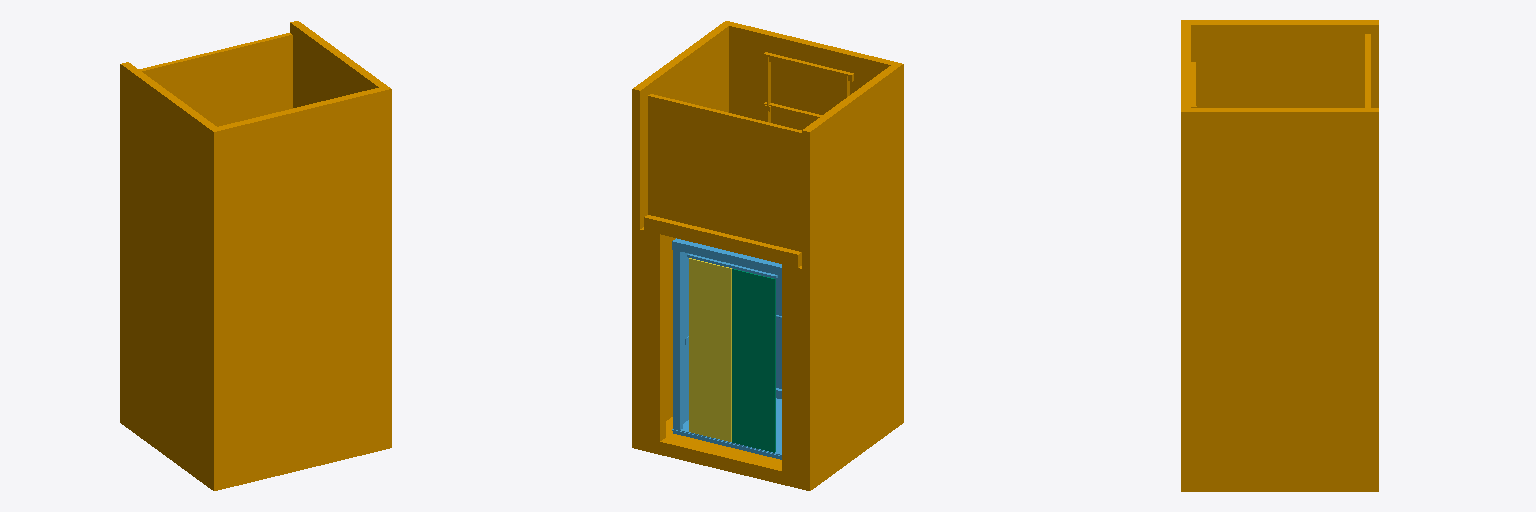
robot.urdf — passenger_elevator:
<robot name="passenger_elevator">
  <link name="shaft_frame">
    <inertial>
      <origin xyz="0 0 2.175" rpy="0 0 0" />
      <mass value="1800" />
      <inertia ixx="3468.75" ixy="0" ixz="0" iyy="3597.75" iyz="0" izz="1389.75" />
      </inertial>
    <visual>
      <origin xyz="0 0 0.06" rpy="0 0 0" />
      <geometry>
        <box size="2.25 2.05 0.12" />
        </geometry>
      </visual>
    <visual>
      <origin xyz="0 -0.975 2.175" rpy="0 0 0" />
      <geometry>
        <box size="2.25 0.1 4.35" />
        </geometry>
      </visual>
    <visual>
      <origin xyz="-1.075 0 2.175" rpy="0 0 0" />
      <geometry>
        <box size="0.1 2.05 4.35" />
        </geometry>
      </visual>
    <visual>
      <origin xyz="1.075 0 2.175" rpy="0 0 0" />
      <geometry>
        <box size="0.1 2.05 4.35" />
        </geometry>
      </visual>
    <visual>
      <origin xyz="0 0.955 0.14" rpy="0 0 0" />
      <geometry>
        <box size="1.95 0.14 0.04" />
        </geometry>
      </visual>
    <visual>
      <origin xyz="-0.9 0.955 1.395" rpy="0 0 0" />
      <geometry>
        <box size="0.25 0.14 2.55" />
        </geometry>
      </visual>
    <visual>
      <origin xyz="0.9 0.955 1.395" rpy="0 0 0" />
      <geometry>
        <box size="0.25 0.14 2.55" />
        </geometry>
      </visual>
    <visual>
      <origin xyz="0 0.955 2.75" rpy="0 0 0" />
      <geometry>
        <box size="1.95 0.14 0.16" />
        </geometry>
      </visual>
    <visual>
      <origin xyz="0 0.915 3.55" rpy="0 0 0" />
      <geometry>
        <box size="1.95 0.06 1.44" />
        </geometry>
      </visual>
    <visual>
      <origin xyz="-0.5 -0.93 2.12" rpy="0 0 0" />
      <geometry>
        <box size="0.04 0.03 4" />
        </geometry>
      </visual>
    <visual>
      <origin xyz="-0.5 -0.9 2.12" rpy="0 0 0" />
      <geometry>
        <box size="0.012 0.08 4" />
        </geometry>
      </visual>
    <visual>
      <origin xyz="-0.5 -0.9 0.32" rpy="0 0 0" />
      <geometry>
        <box size="0.08 0.1 0.06" />
        </geometry>
      </visual>
    <visual>
      <origin xyz="-0.5 -0.9 1.38" rpy="0 0 0" />
      <geometry>
        <box size="0.08 0.1 0.06" />
        </geometry>
      </visual>
    <visual>
      <origin xyz="-0.5 -0.9 2.44" rpy="0 0 0" />
      <geometry>
        <box size="0.08 0.1 0.06" />
        </geometry>
      </visual>
    <visual>
      <origin xyz="-0.5 -0.9 3.5" rpy="0 0 0" />
      <geometry>
        <box size="0.08 0.1 0.06" />
        </geometry>
      </visual>
    <visual>
      <origin xyz="0.5 -0.93 2.12" rpy="0 0 0" />
      <geometry>
        <box size="0.04 0.03 4" />
        </geometry>
      </visual>
    <visual>
      <origin xyz="0.5 -0.9 2.12" rpy="0 0 0" />
      <geometry>
        <box size="0.012 0.08 4" />
        </geometry>
      </visual>
    <visual>
      <origin xyz="0.5 -0.9 0.32" rpy="0 0 0" />
      <geometry>
        <box size="0.08 0.1 0.06" />
        </geometry>
      </visual>
    <visual>
      <origin xyz="0.5 -0.9 1.38" rpy="0 0 0" />
      <geometry>
        <box size="0.08 0.1 0.06" />
        </geometry>
      </visual>
    <visual>
      <origin xyz="0.5 -0.9 2.44" rpy="0 0 0" />
      <geometry>
        <box size="0.08 0.1 0.06" />
        </geometry>
      </visual>
    <visual>
      <origin xyz="0.5 -0.9 3.5" rpy="0 0 0" />
      <geometry>
        <box size="0.08 0.1 0.06" />
        </geometry>
      </visual>
    <visual>
      <origin xyz="0 -0.9 0.32" rpy="0 0 0" />
      <geometry>
        <box size="1.12 0.06 0.08" />
        </geometry>
      </visual>
    <visual>
      <origin xyz="0 -0.9 1.38" rpy="0 0 0" />
      <geometry>
        <box size="1.12 0.06 0.08" />
        </geometry>
      </visual>
    <visual>
      <origin xyz="0 -0.9 2.44" rpy="0 0 0" />
      <geometry>
        <box size="1.12 0.06 0.08" />
        </geometry>
      </visual>
    <visual>
      <origin xyz="0 -0.9 3.5" rpy="0 0 0" />
      <geometry>
        <box size="1.12 0.06 0.08" />
        </geometry>
      </visual>
    <visual>
      <origin xyz="0 -0.9 4.1" rpy="0 0 0" />
      <geometry>
        <box size="1.12 0.06 0.08" />
        </geometry>
      </visual>
    <visual>
      <origin xyz="0 0.1 0.09" rpy="0 0 0" />
      <geometry>
        <box size="0.2 0.2 0.06" />
        </geometry>
      </visual>
    <visual>
      <origin xyz="0.81 0.905 1.05" rpy="0 0 0" />
      <geometry>
        <box size="0.04 0.05 0.28" />
        </geometry>
      </visual>
    <visual>
      <origin xyz="0 0.915 2.93" rpy="0 0 0" />
      <geometry>
        <box size="0.28 0.05 0.1" />
        </geometry>
      </visual>
    </link>
  <link name="cab">
    <inertial>
      <origin xyz="0 0 1.18" rpy="0 0 0" />
      <mass value="950" />
      <inertia ixx="573.958" ixy="0" ixz="0" iyy="634.323" iyz="0" izz="370.698" />
      </inertial>
    <visual>
      <origin xyz="0 0 0.02" rpy="0 0 0" />
      <geometry>
        <box size="0.18 0.1 0.04" />
        </geometry>
      </visual>
    <visual>
      <origin xyz="0 0 0.06" rpy="0 0 0" />
      <geometry>
        <box size="1.55 1.3 0.06" />
        </geometry>
      </visual>
    <visual>
      <origin xyz="0 -0.63 1.18" rpy="0 0 0" />
      <geometry>
        <box size="1.55 0.04 2.18" />
        </geometry>
      </visual>
    <visual>
      <origin xyz="-0.755 0 1.18" rpy="0 0 0" />
      <geometry>
        <box size="0.04 1.26 2.18" />
        </geometry>
      </visual>
    <visual>
      <origin xyz="0.755 0 1.18" rpy="0 0 0" />
      <geometry>
        <box size="0.04 1.26 2.18" />
        </geometry>
      </visual>
    <visual>
      <origin xyz="0 0 2.34" rpy="0 0 0" />
      <geometry>
        <box size="1.55 1.3 0.04" />
        </geometry>
      </visual>
    <visual>
      <origin xyz="0 0.62 0.07" rpy="0 0 0" />
      <geometry>
        <box size="1.55 0.08 0.02" />
        </geometry>
      </visual>
    <visual>
      <origin xyz="-0.72 0.62 1.18" rpy="0 0 0" />
      <geometry>
        <box size="0.08 0.08 2.18" />
        </geometry>
      </visual>
    <visual>
      <origin xyz="0.72 0.62 1.18" rpy="0 0 0" />
      <geometry>
        <box size="0.08 0.08 2.18" />
        </geometry>
      </visual>
    <visual>
      <origin xyz="0 0.62 2.31" rpy="0 0 0" />
      <geometry>
        <box size="1.55 0.08 0.1" />
        </geometry>
      </visual>
    <visual>
      <origin xyz="0 0.675 2.245" rpy="0 0 0" />
      <geometry>
        <box size="1.12 0.05 0.03" />
        </geometry>
      </visual>
    <visual>
      <origin xyz="-0.275 0.66 2.22" rpy="0 0 0" />
      <geometry>
        <box size="0.12 0.02 0.02" />
        </geometry>
      </visual>
    <visual>
      <origin xyz="0.275 0.66 2.22" rpy="0 0 0" />
      <geometry>
        <box size="0.12 0.02 0.02" />
        </geometry>
      </visual>
    <visual>
      <origin xyz="0 -0.6 0.16" rpy="0 0 0" />
      <geometry>
        <box size="1.18 0.08 0.1" />
        </geometry>
      </visual>
    <visual>
      <origin xyz="0 -0.6 2.26" rpy="0 0 0" />
      <geometry>
        <box size="1.18 0.08 0.1" />
        </geometry>
      </visual>
    <visual>
      <origin xyz="-0.5 -0.6 1.18" rpy="0 0 0" />
      <geometry>
        <box size="0.08 0.08 2.18" />
        </geometry>
      </visual>
    <visual>
      <origin xyz="0.5 -0.6 1.18" rpy="0 0 0" />
      <geometry>
        <box size="0.08 0.08 2.18" />
        </geometry>
      </visual>
    <visual>
      <origin xyz="-0.5 -0.64 0.18" rpy="0 0 0" />
      <geometry>
        <box size="0.08 0.14 0.1" />
        </geometry>
      </visual>
    <visual>
      <origin xyz="-0.5 -0.64 2.24" rpy="0 0 0" />
      <geometry>
        <box size="0.08 0.14 0.1" />
        </geometry>
      </visual>
    <visual>
      <origin xyz="0.5 -0.64 0.18" rpy="0 0 0" />
      <geometry>
        <box size="0.08 0.14 0.1" />
        </geometry>
      </visual>
    <visual>
      <origin xyz="0.5 -0.64 2.24" rpy="0 0 0" />
      <geometry>
        <box size="0.08 0.14 0.1" />
        </geometry>
      </visual>
    <visual>
      <origin xyz="0.736 0.24 1.24" rpy="0 0 0" />
      <geometry>
        <box size="0.04 0.22 1.1" />
        </geometry>
      </visual>
    <visual>
      <origin xyz="0 0 2.315" rpy="0 0 0" />
      <geometry>
        <box size="0.9 0.5 0.03" />
        </geometry>
      </visual>
    <visual>
      <origin xyz="0 -0.61 1.08" rpy="0 1.5708 0" />
      <geometry>
        <cylinder radius="0.014" length="0.9" />
        </geometry>
      </visual>
    <visual>
      <origin xyz="-0.742 0.1 1.06" rpy="1.5708 0 0" />
      <geometry>
        <cylinder radius="0.012" length="0.6" />
        </geometry>
      </visual>
    <visual>
      <origin xyz="0.742 0.1 1.06" rpy="1.5708 0 0" />
      <geometry>
        <cylinder radius="0.012" length="0.6" />
        </geometry>
      </visual>
    <visual>
      <origin xyz="-0.32 -0.625 1.08" rpy="0 0 0" />
      <geometry>
        <box size="0.1 0.04 0.08" />
        </geometry>
      </visual>
    <visual>
      <origin xyz="0.32 -0.625 1.08" rpy="0 0 0" />
      <geometry>
        <box size="0.1 0.04 0.08" />
        </geometry>
      </visual>
    <visual>
      <origin xyz="-0.742 0.1 1.06" rpy="0 0 0" />
      <geometry>
        <box size="0.024 0.68 0.08" />
        </geometry>
      </visual>
    <visual>
      <origin xyz="0.742 0.1 1.06" rpy="0 0 0" />
      <geometry>
        <box size="0.024 0.68 0.08" />
        </geometry>
      </visual>
    </link>
  <link name="left_door">
    <inertial>
      <origin xyz="0 0 -1.05" rpy="0 0 0" />
      <mass value="75" />
      <inertia ixx="27.5664" ixy="0" ixz="0" iyy="29.385" iyz="0" izz="1.82641" />
      </inertial>
    <visual>
      <origin xyz="0 0 -1.05" rpy="0 0 0" />
      <geometry>
        <box size="0.54 0.025 2.1" />
        </geometry>
      </visual>
    <visual>
      <origin xyz="-0.255 0.0075 -1.05" rpy="0 0 0" />
      <geometry>
        <box size="0.03 0.01 2.1" />
        </geometry>
      </visual>
    <visual>
      <origin xyz="0.255 0.0075 -1.05" rpy="0 0 0" />
      <geometry>
        <box size="0.03 0.01 2.1" />
        </geometry>
      </visual>
    <visual>
      <origin xyz="0 0.0075 -0.48" rpy="0 0 0" />
      <geometry>
        <box size="0.44 0.01 0.04" />
        </geometry>
      </visual>
    <visual>
      <origin xyz="0 0.0075 -1.34" rpy="0 0 0" />
      <geometry>
        <box size="0.44 0.01 0.04" />
        </geometry>
      </visual>
    </link>
  <link name="right_door">
    <inertial>
      <origin xyz="0 0 -1.05" rpy="0 0 0" />
      <mass value="75" />
      <inertia ixx="27.5664" ixy="0" ixz="0" iyy="29.385" iyz="0" izz="1.82641" />
      </inertial>
    <visual>
      <origin xyz="0 0 -1.05" rpy="0 0 0" />
      <geometry>
        <box size="0.54 0.025 2.1" />
        </geometry>
      </visual>
    <visual>
      <origin xyz="-0.255 0.0075 -1.05" rpy="0 0 0" />
      <geometry>
        <box size="0.03 0.01 2.1" />
        </geometry>
      </visual>
    <visual>
      <origin xyz="0.255 0.0075 -1.05" rpy="0 0 0" />
      <geometry>
        <box size="0.03 0.01 2.1" />
        </geometry>
      </visual>
    <visual>
      <origin xyz="0 0.0075 -0.48" rpy="0 0 0" />
      <geometry>
        <box size="0.44 0.01 0.04" />
        </geometry>
      </visual>
    <visual>
      <origin xyz="0 0.0075 -1.34" rpy="0 0 0" />
      <geometry>
        <box size="0.44 0.01 0.04" />
        </geometry>
      </visual>
    </link>
  <joint name="shaft_to_cab" type="prismatic">
    <origin xyz="0 0.1 0.12" rpy="0 0 0" />
    <parent link="shaft_frame" />
    <child link="cab" />
    <axis xyz="0 0 1" />
    <limit effort="6000" velocity="1.5" lower="0" upper="1.45" />
    </joint>
  <joint name="cab_to_left_door" type="prismatic">
    <origin xyz="-0.275 0.685 2.22" rpy="0 0 0" />
    <parent link="cab" />
    <child link="left_door" />
    <axis xyz="-1 0 0" />
    <limit effort="400" velocity="1.2" lower="0" upper="0.31" />
    </joint>
  <joint name="cab_to_right_door" type="prismatic">
    <origin xyz="0.275 0.685 2.22" rpy="0 0 0" />
    <parent link="cab" />
    <child link="right_door" />
    <axis xyz="1 0 0" />
    <limit effort="400" velocity="1.2" lower="0" upper="0.31" />
    </joint>
  </robot>

--- Render facts (derived) ---
3 views of the same robot in one strip: view 1: azimuth 30°, elevation 25°; view 2: azimuth 150°, elevation 25°; view 3: azimuth 270°, elevation 25° (orthographic).
Model passenger_elevator with 4 links and 3 joints (3 prismatic), rooted at shaft_frame, posed every joint at zero.
Visible links, largest first — view 1: shaft_frame; view 2: shaft_frame, left_door, right_door, cab; view 3: shaft_frame.
Boxes of the visible links, <box> form: shaft_frame: <box>120,21,391,490</box>; shaft_frame: <box>632,21,903,490</box>; left_door: <box>732,269,775,452</box>; right_door: <box>689,258,731,441</box>; cab: <box>672,238,781,459</box>; shaft_frame: <box>1181,20,1378,491</box>.
Size in the robot's own frame: 2.25 by 2.05 by 4.35 metres.
Geometry: primitives only (box / cylinder / sphere), no mesh files.
